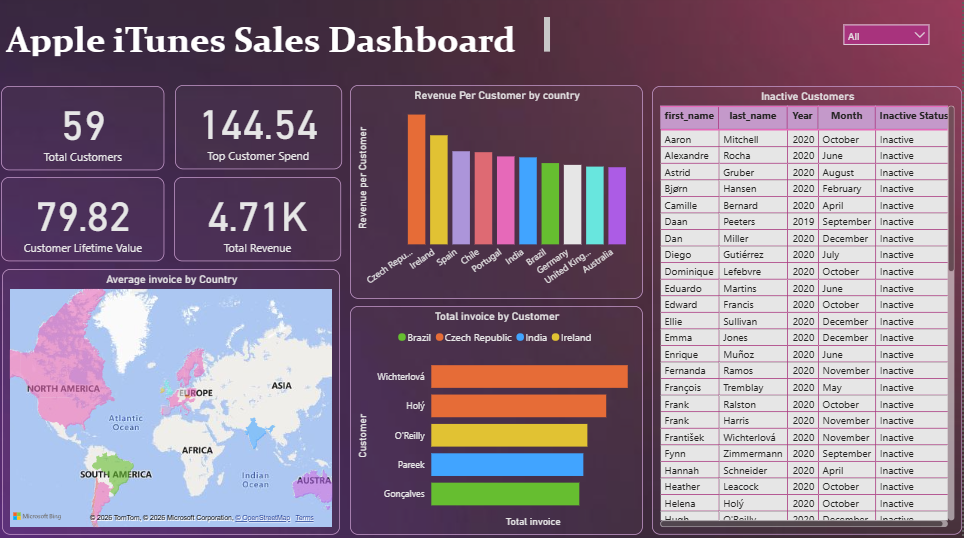

Layout of this report page (visuals, bound fields, positions):
{"tool":"powerbi","page":{"name":"CUSTOMER INSIGHTS","canvas":[1280,720],"ordinal":0},"visuals":[{"type":"card","fields":{"Values":["customer.Total Customers"]},"box":[4.3,119.5,217.4,112.3],"z":0},{"type":"card","fields":{"Values":["customer.Top Customer Spend"]},"box":[234.8,117.7,221.8,112.3],"z":1000},{"type":"card","fields":{"Values":["invoice.Total Revenue"]},"box":[233.4,241.1,221.8,112.3],"z":2000},{"type":"barChart","title":"Total invoice by Customer","fields":{"Category":["customer.last_name"],"Y":["Sum(invoice.total)"],"Series":["customer.country"]},"box":[468,411.8,388.8,303.8],"z":3000},{"type":"filledMap","title":"Average invoice by Country","fields":{"Category":["customer.country"],"Y":["Avg(invoice.total)"]},"box":[5.8,362.9,449.3,352.8],"z":4000},{"type":"slicer","fields":{"Values":["customer.country"]},"box":[1113.1,27.4,133.9,57.6],"z":6000},{"type":"card","fields":{"Values":["customer.Customer Lifetime Value"]},"box":[4.4,241.1,217.4,112.3],"z":7000},{"type":"columnChart","fields":{"Category":["customer.country"],"Y":["customer.Revenue Per Customer"]},"box":[468,118.1,388.8,283.7],"z":8000},{"type":"tableEx","title":"Inactive Customers","fields":{"Values":["customer.first_name","customer.last_name","customer.Last Purchase Date.Variation.Date Hierarchy.Year","customer.Last Purchase Date.Variation.Date Hierarchy.Month","customer.Inactive Status"]},"box":[868.3,119.5,411.8,596.2],"z":9000},{"type":"textbox","box":[5.8,20.2,733,64.8],"z":10000}]}

Visuals, with their boxes in screenshot pixels (x1, y1, x2, y2), scaled from the page's 1280x720 canvas onto the 964x538 screenshot:
card - customer.Total Customers: bbox=[3, 89, 167, 173]
card - customer.Top Customer Spend: bbox=[177, 88, 344, 172]
card - invoice.Total Revenue: bbox=[176, 180, 343, 264]
"Total invoice by Customer" barChart: bbox=[352, 308, 645, 535]
"Average invoice by Country" filledMap: bbox=[4, 271, 343, 535]
slicer - customer.country: bbox=[838, 20, 939, 64]
card - customer.Customer Lifetime Value: bbox=[3, 180, 167, 264]
columnChart - customer.country x customer.Revenue Per Customer: bbox=[352, 88, 645, 300]
"Inactive Customers" tableEx: bbox=[654, 89, 963, 535]
textbox: bbox=[4, 15, 556, 64]
